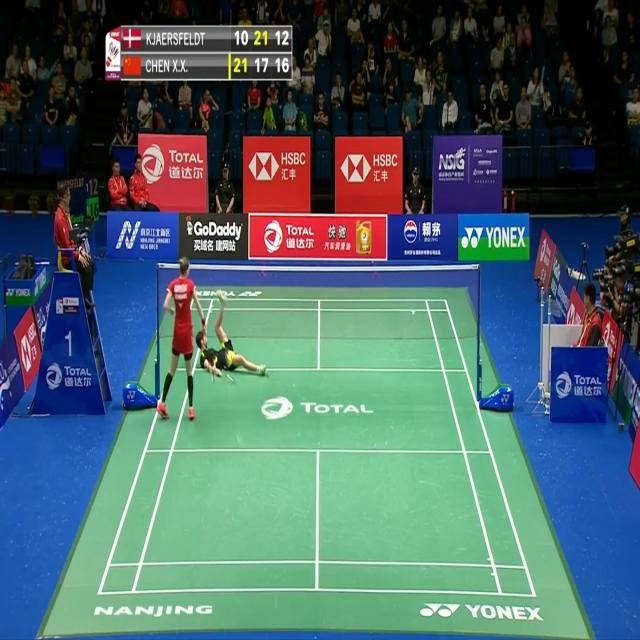Player1: (160, 255, 202, 426)
Player2: (197, 292, 271, 383)
